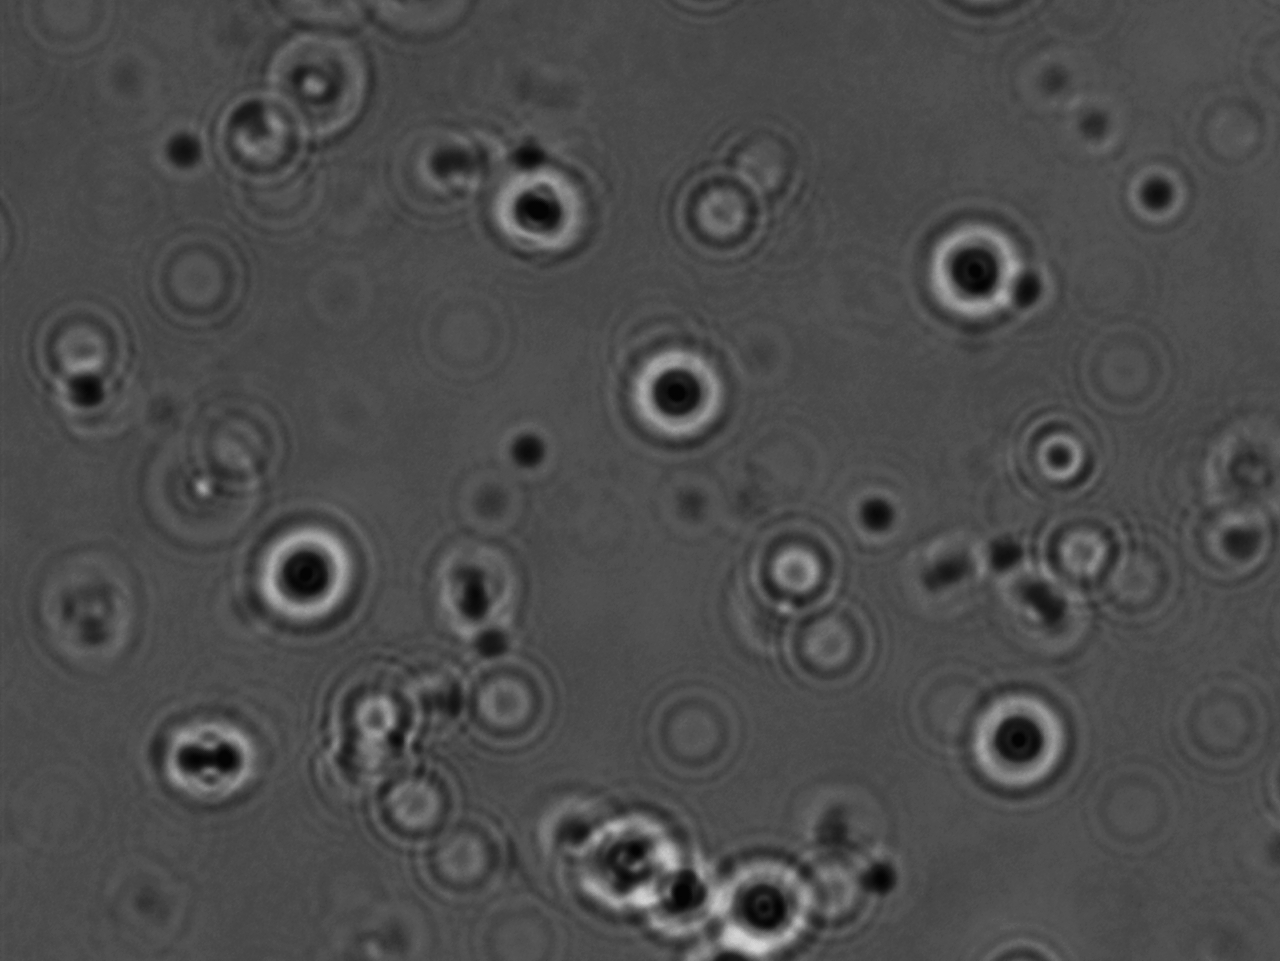depth:-16: (241, 502, 383, 631), (697, 845, 847, 961), (906, 203, 1030, 342), (958, 679, 1089, 810), (615, 327, 747, 455), (468, 147, 598, 275)
